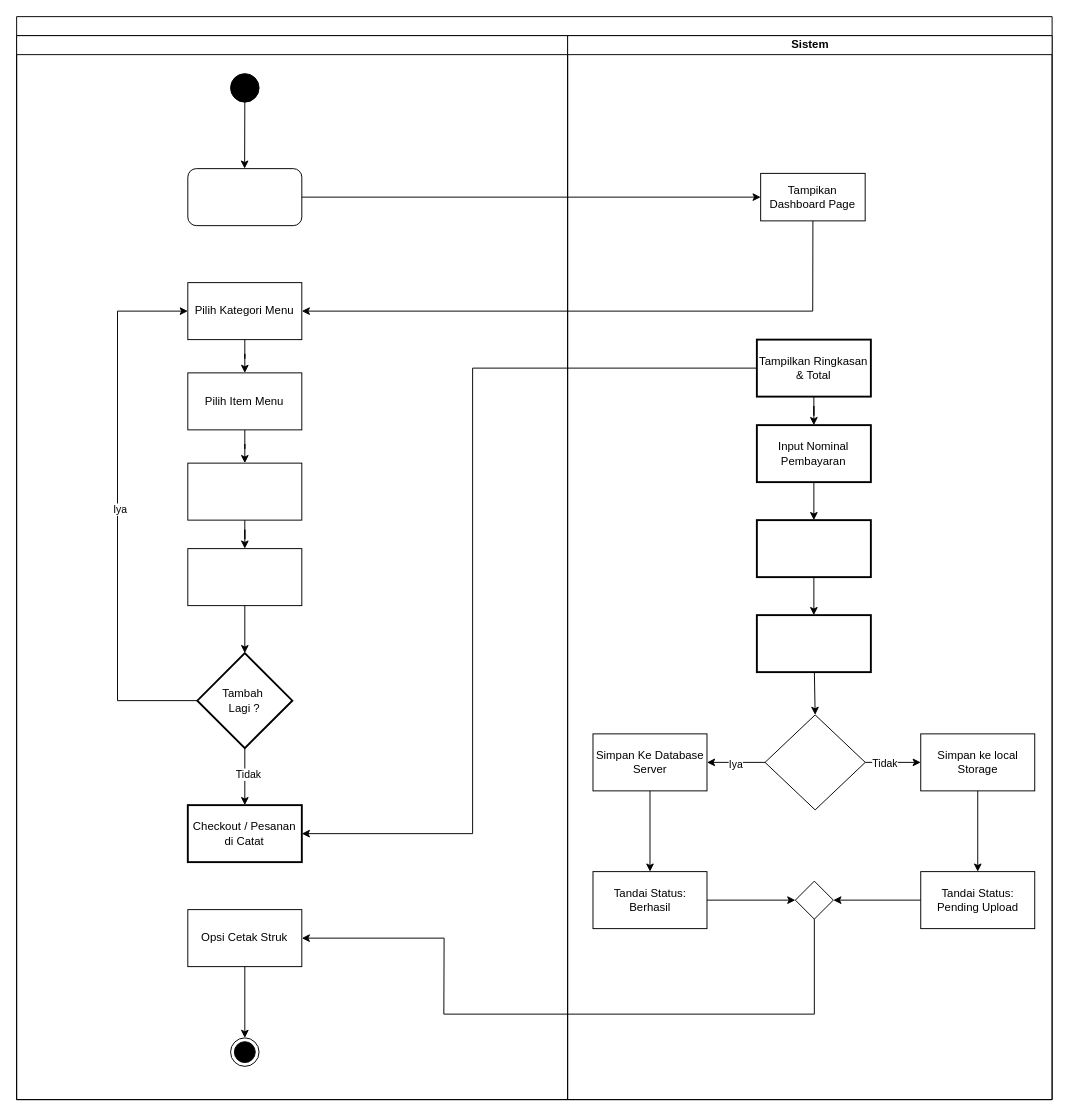
Some shapes in this 1069 by 1116 pixel diagram are drawn without their labels. The shapes that lost their labels are listed below. From the top down, each one's box as (x1, y1, x2, y2) in pixels, then its label:
(187, 168, 302, 226): Buka Aplikasi
(187, 462, 302, 520): Input Jumlah Pesanan
(16, 35, 568, 1100): Kasir
(755, 519, 871, 578): Hitung Kembalian
(187, 548, 302, 606): Tambahkan ke Keranjang
(755, 614, 871, 673): Simpan Transaksi
(764, 714, 865, 810): Internet Stabil ?
